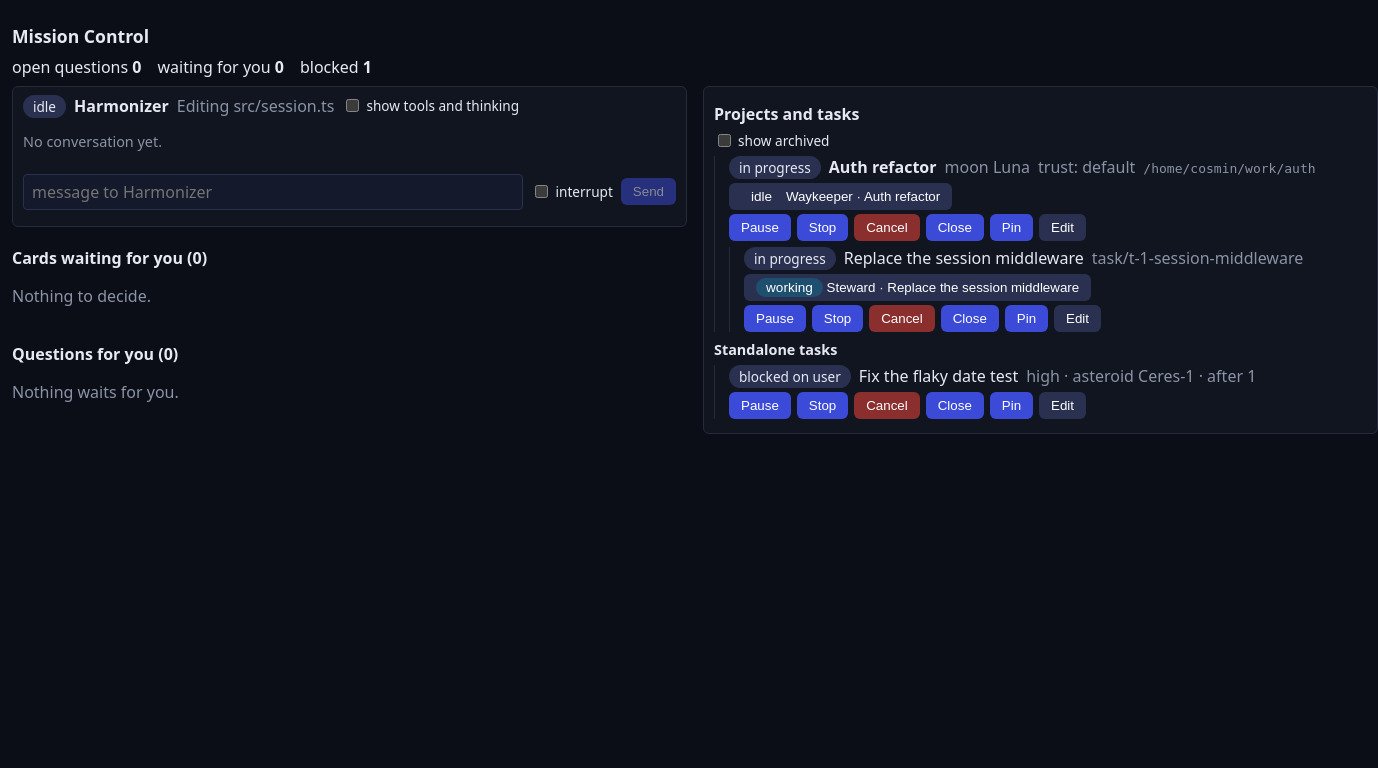
Test: chat boxes (P2-18) › opens a Waykeeper's chat from the tree
The width and height of the screenshot is (1378, 768).
What coordinates should you click on to do the following:
click the button "idle Waykeeper · Auth refactor"
I would click on:
 (841, 196)
Its box is [729,183,952,210].
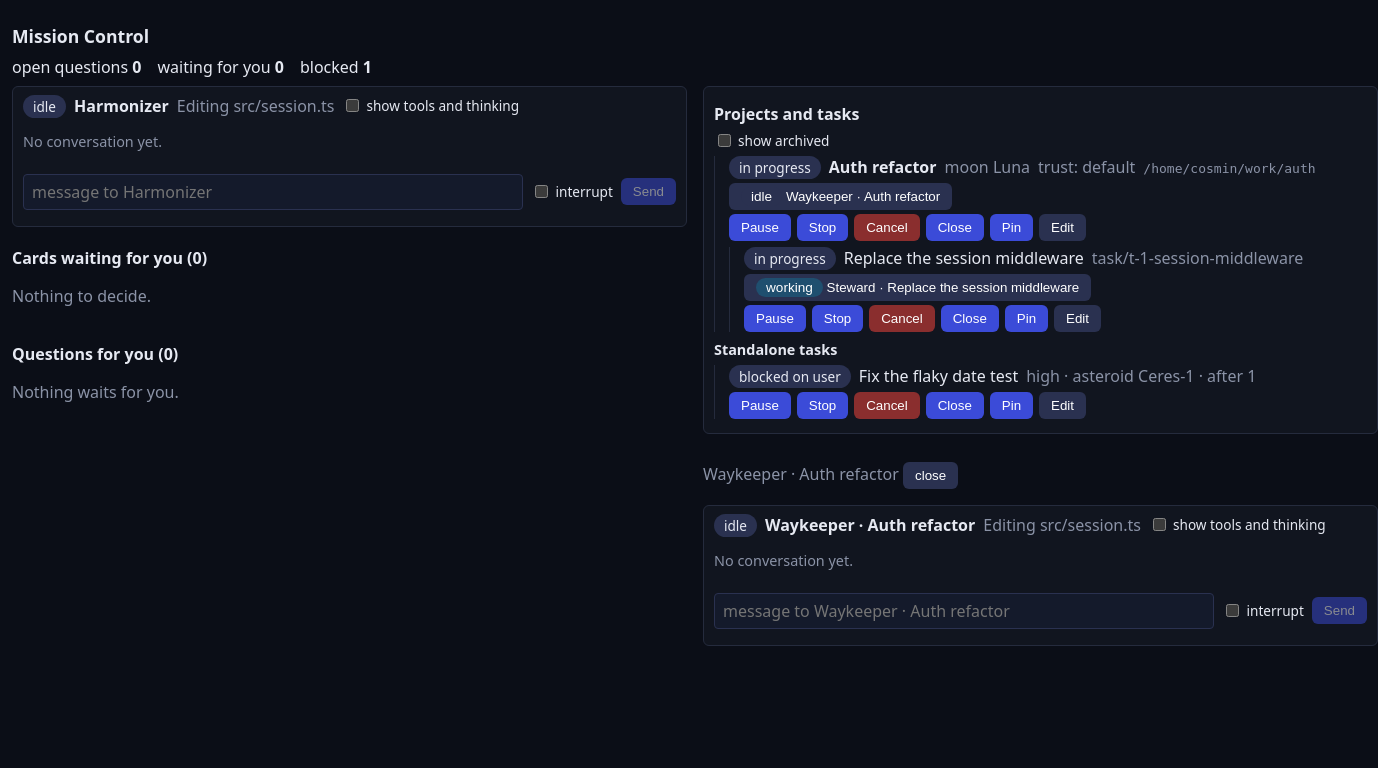
Check: the field labelled "message to Waykeeper · Auth refactor" is shown, box [714,593,1214,629]
